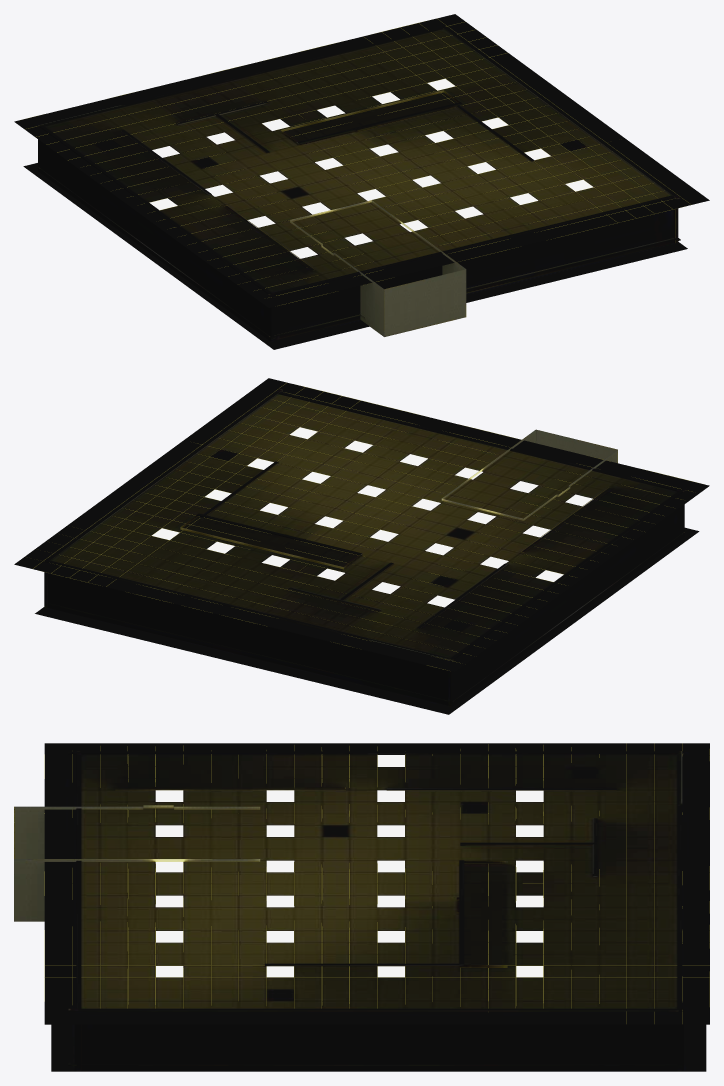
File: backrooms.glb
3 renders of one model, top to bottom at view 1: azimuth 30°, elevation 25°; view 2: azimuth 150°, elevation 25°; view 3: azimuth 270°, elevation 25°, orthographic. The views are drawn at different scales.
Visible parts, largest first — view 1: Ceiling_6, BackWall_Double_BR.028_3, Air_Vent.005_5, Piece1_2, Carpet_v1.001_4; view 2: Ceiling_6, BackWall_Double_BR.028_3, Air_Vent.005_5, Carpet_v1.001_4, Piece1_2; view 3: Ceiling_6, BackWall_Double_BR.028_3, Air_Vent.005_5, Piece1_2, Carpet_v1.001_4.
Part boxes in pixels (x1,y1,x2,y2): Ceiling_6: (14,14,709,307); BackWall_Double_BR.028_3: (37,26,680,341); Air_Vent.005_5: (25,18,691,305); Piece1_2: (290,200,466,336); Carpet_v1.001_4: (23,163,687,349); Ceiling_6: (14,378,709,671); BackWall_Double_BR.028_3: (44,389,687,706); Air_Vent.005_5: (33,383,699,670); Carpet_v1.001_4: (35,527,699,714); Piece1_2: (441,429,617,520); Ceiling_6: (44,743,709,1024); BackWall_Double_BR.028_3: (68,751,683,1071); Air_Vent.005_5: (44,743,709,1023); Piece1_2: (14,805,260,921); Carpet_v1.001_4: (51,1024,706,1071).
Size of the model in its own units: 27.36 by 2.87 by 28.62.
11 materials, 9 textured.
